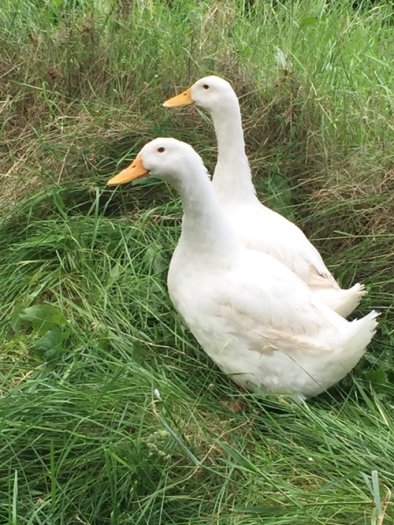Mencari Makan di Lumpur: (99, 157, 152, 188), (157, 88, 195, 112)
